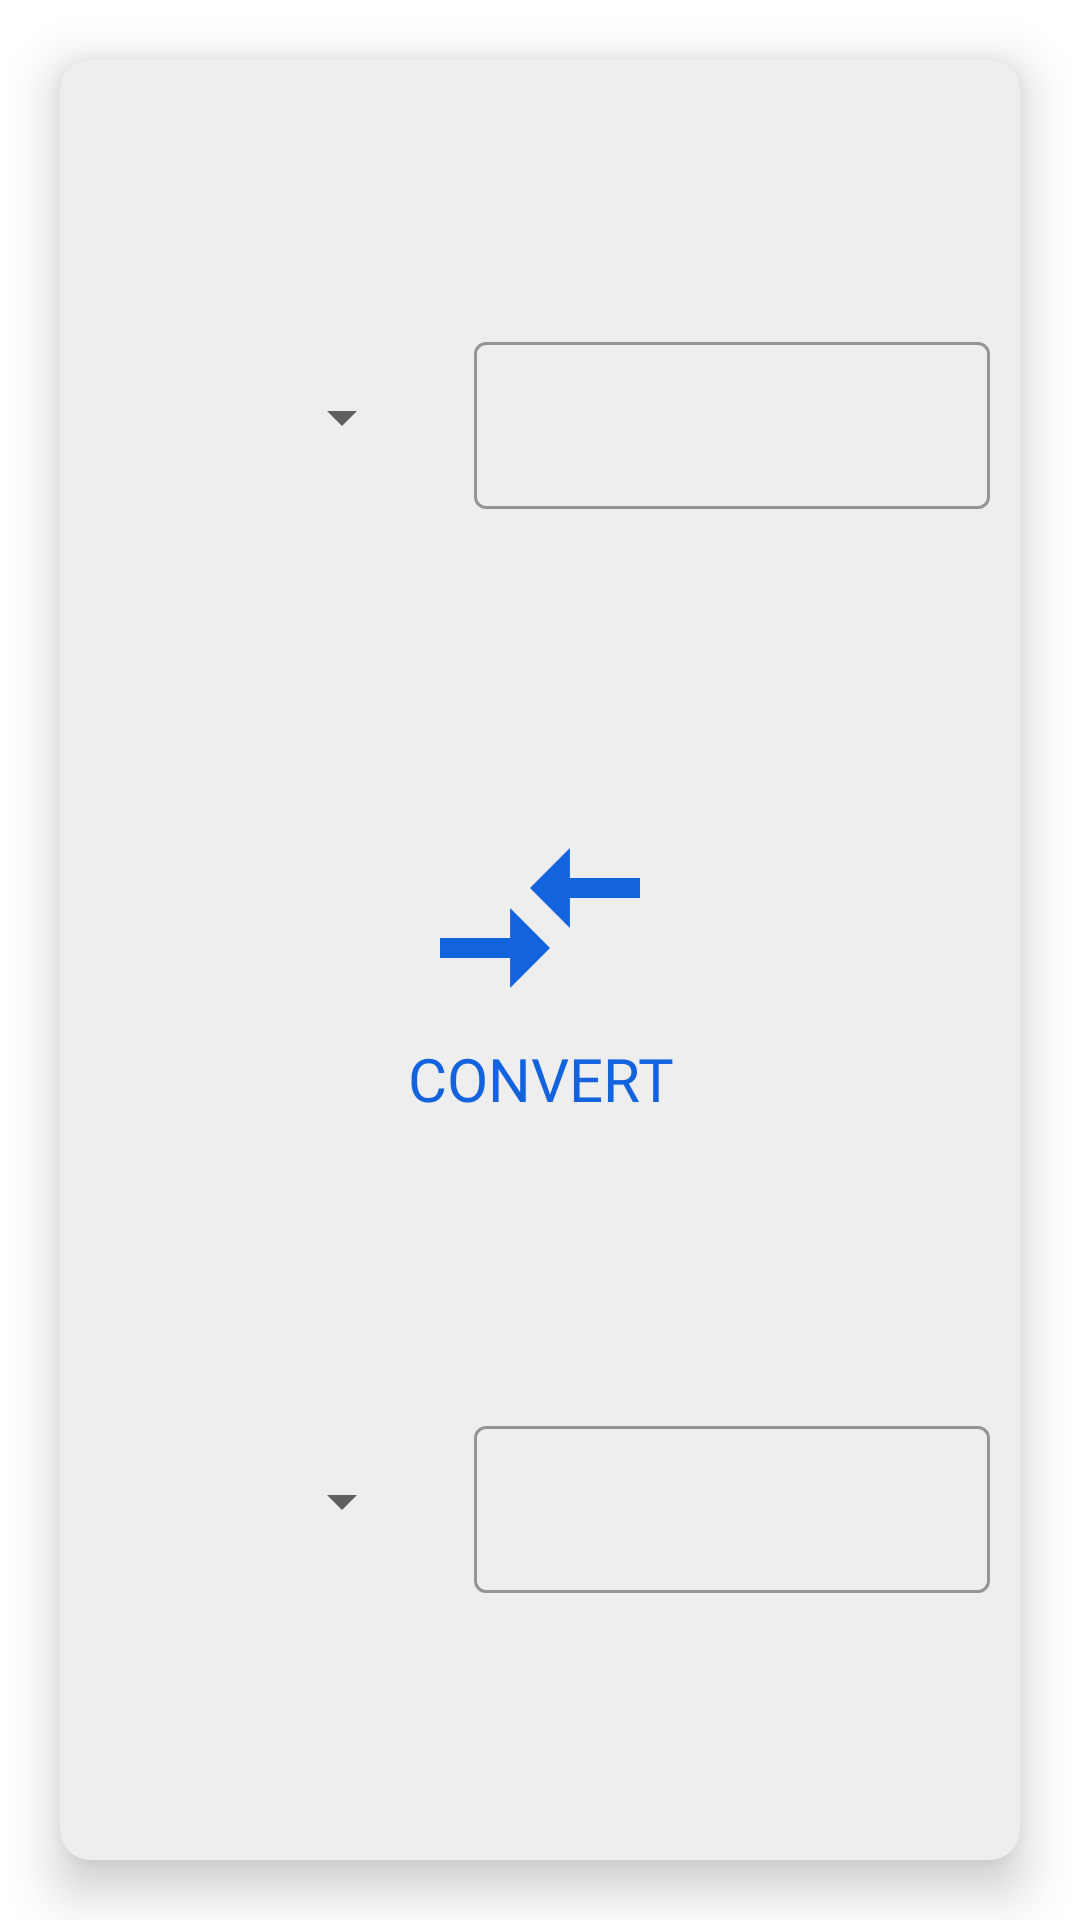

Screen size 1080x1920. Icon name, then its box in pixels as (x1, y1, x2, y2):
compare arrows: (440, 848, 640, 988)
